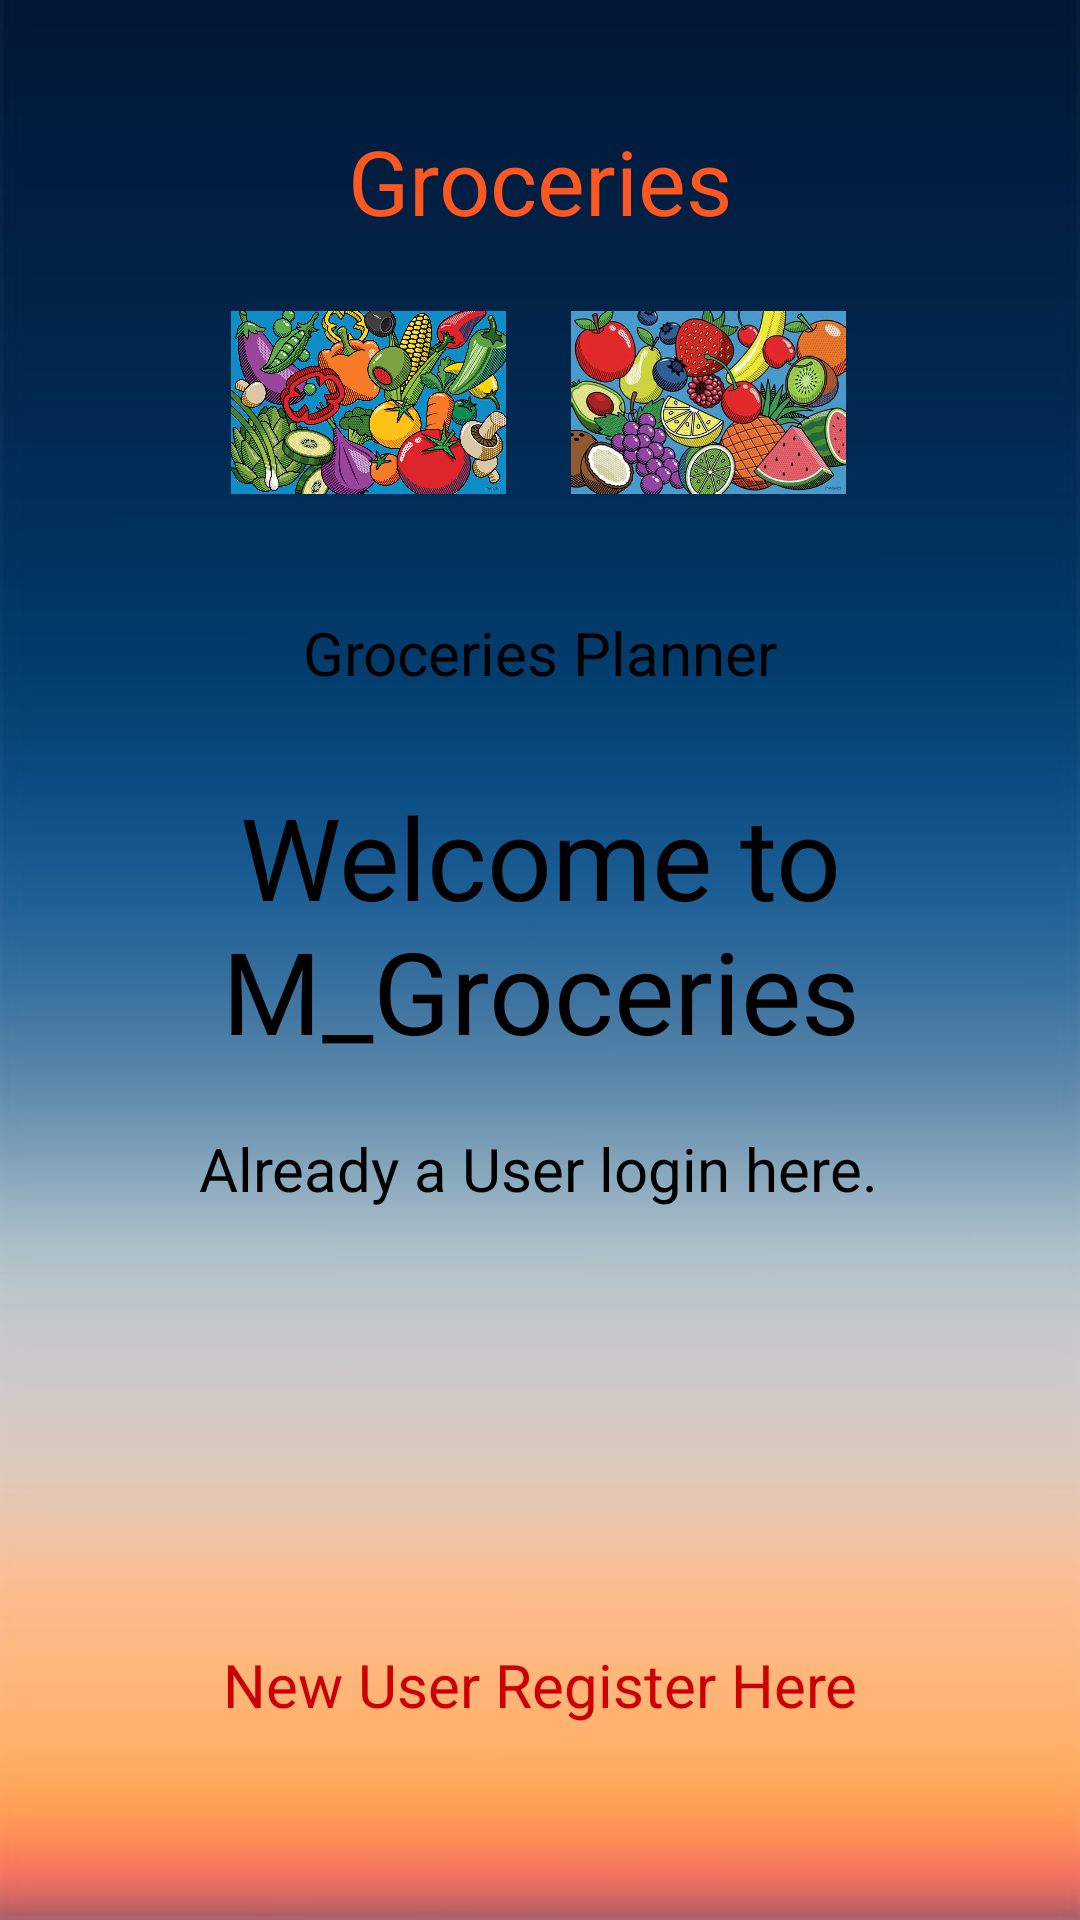

Icons on this 1080x1920 Android screen, each with the point to tap as point (x, y):
fru: point (708, 402)
veg: point (368, 402)
